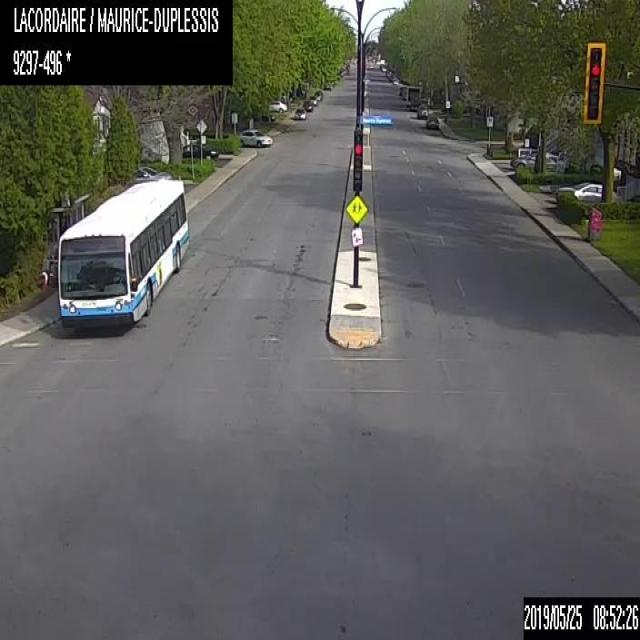bus: (56, 177, 189, 331)
vehicle: (556, 178, 620, 204), (509, 152, 556, 171), (238, 125, 275, 146), (180, 141, 218, 160), (406, 86, 422, 110), (268, 100, 288, 112), (288, 88, 306, 100), (425, 115, 439, 128), (416, 104, 429, 117), (399, 85, 408, 100), (294, 108, 306, 119), (302, 99, 313, 111), (308, 94, 317, 104), (314, 89, 322, 98), (392, 76, 398, 84)
